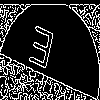E: (25, 25, 56, 79)
